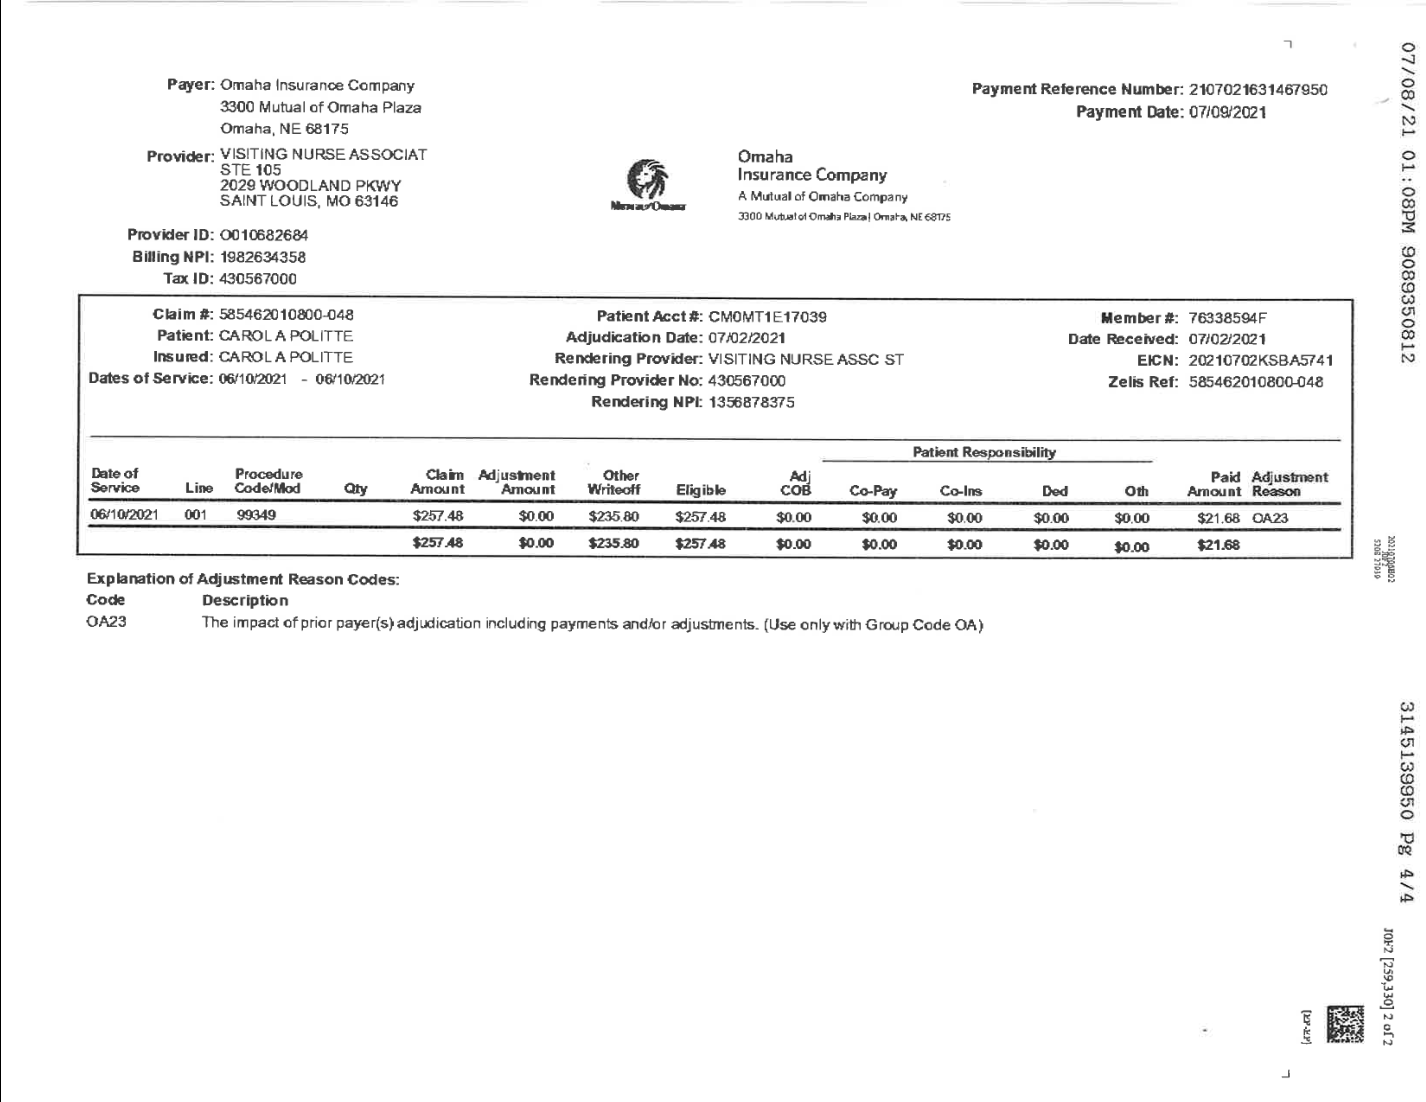data: (528, 304, 916, 427), (86, 306, 388, 407), (1061, 307, 1342, 413), (159, 59, 422, 142), (968, 69, 1335, 124), (144, 149, 429, 208), (117, 223, 313, 291)
table: (88, 433, 1346, 551)
